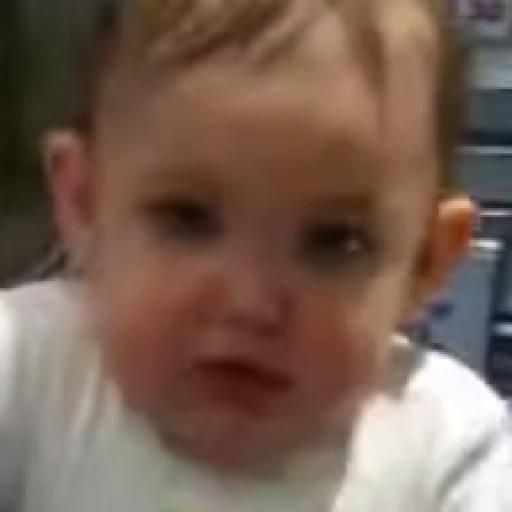Autism: (87, 31, 468, 442)
